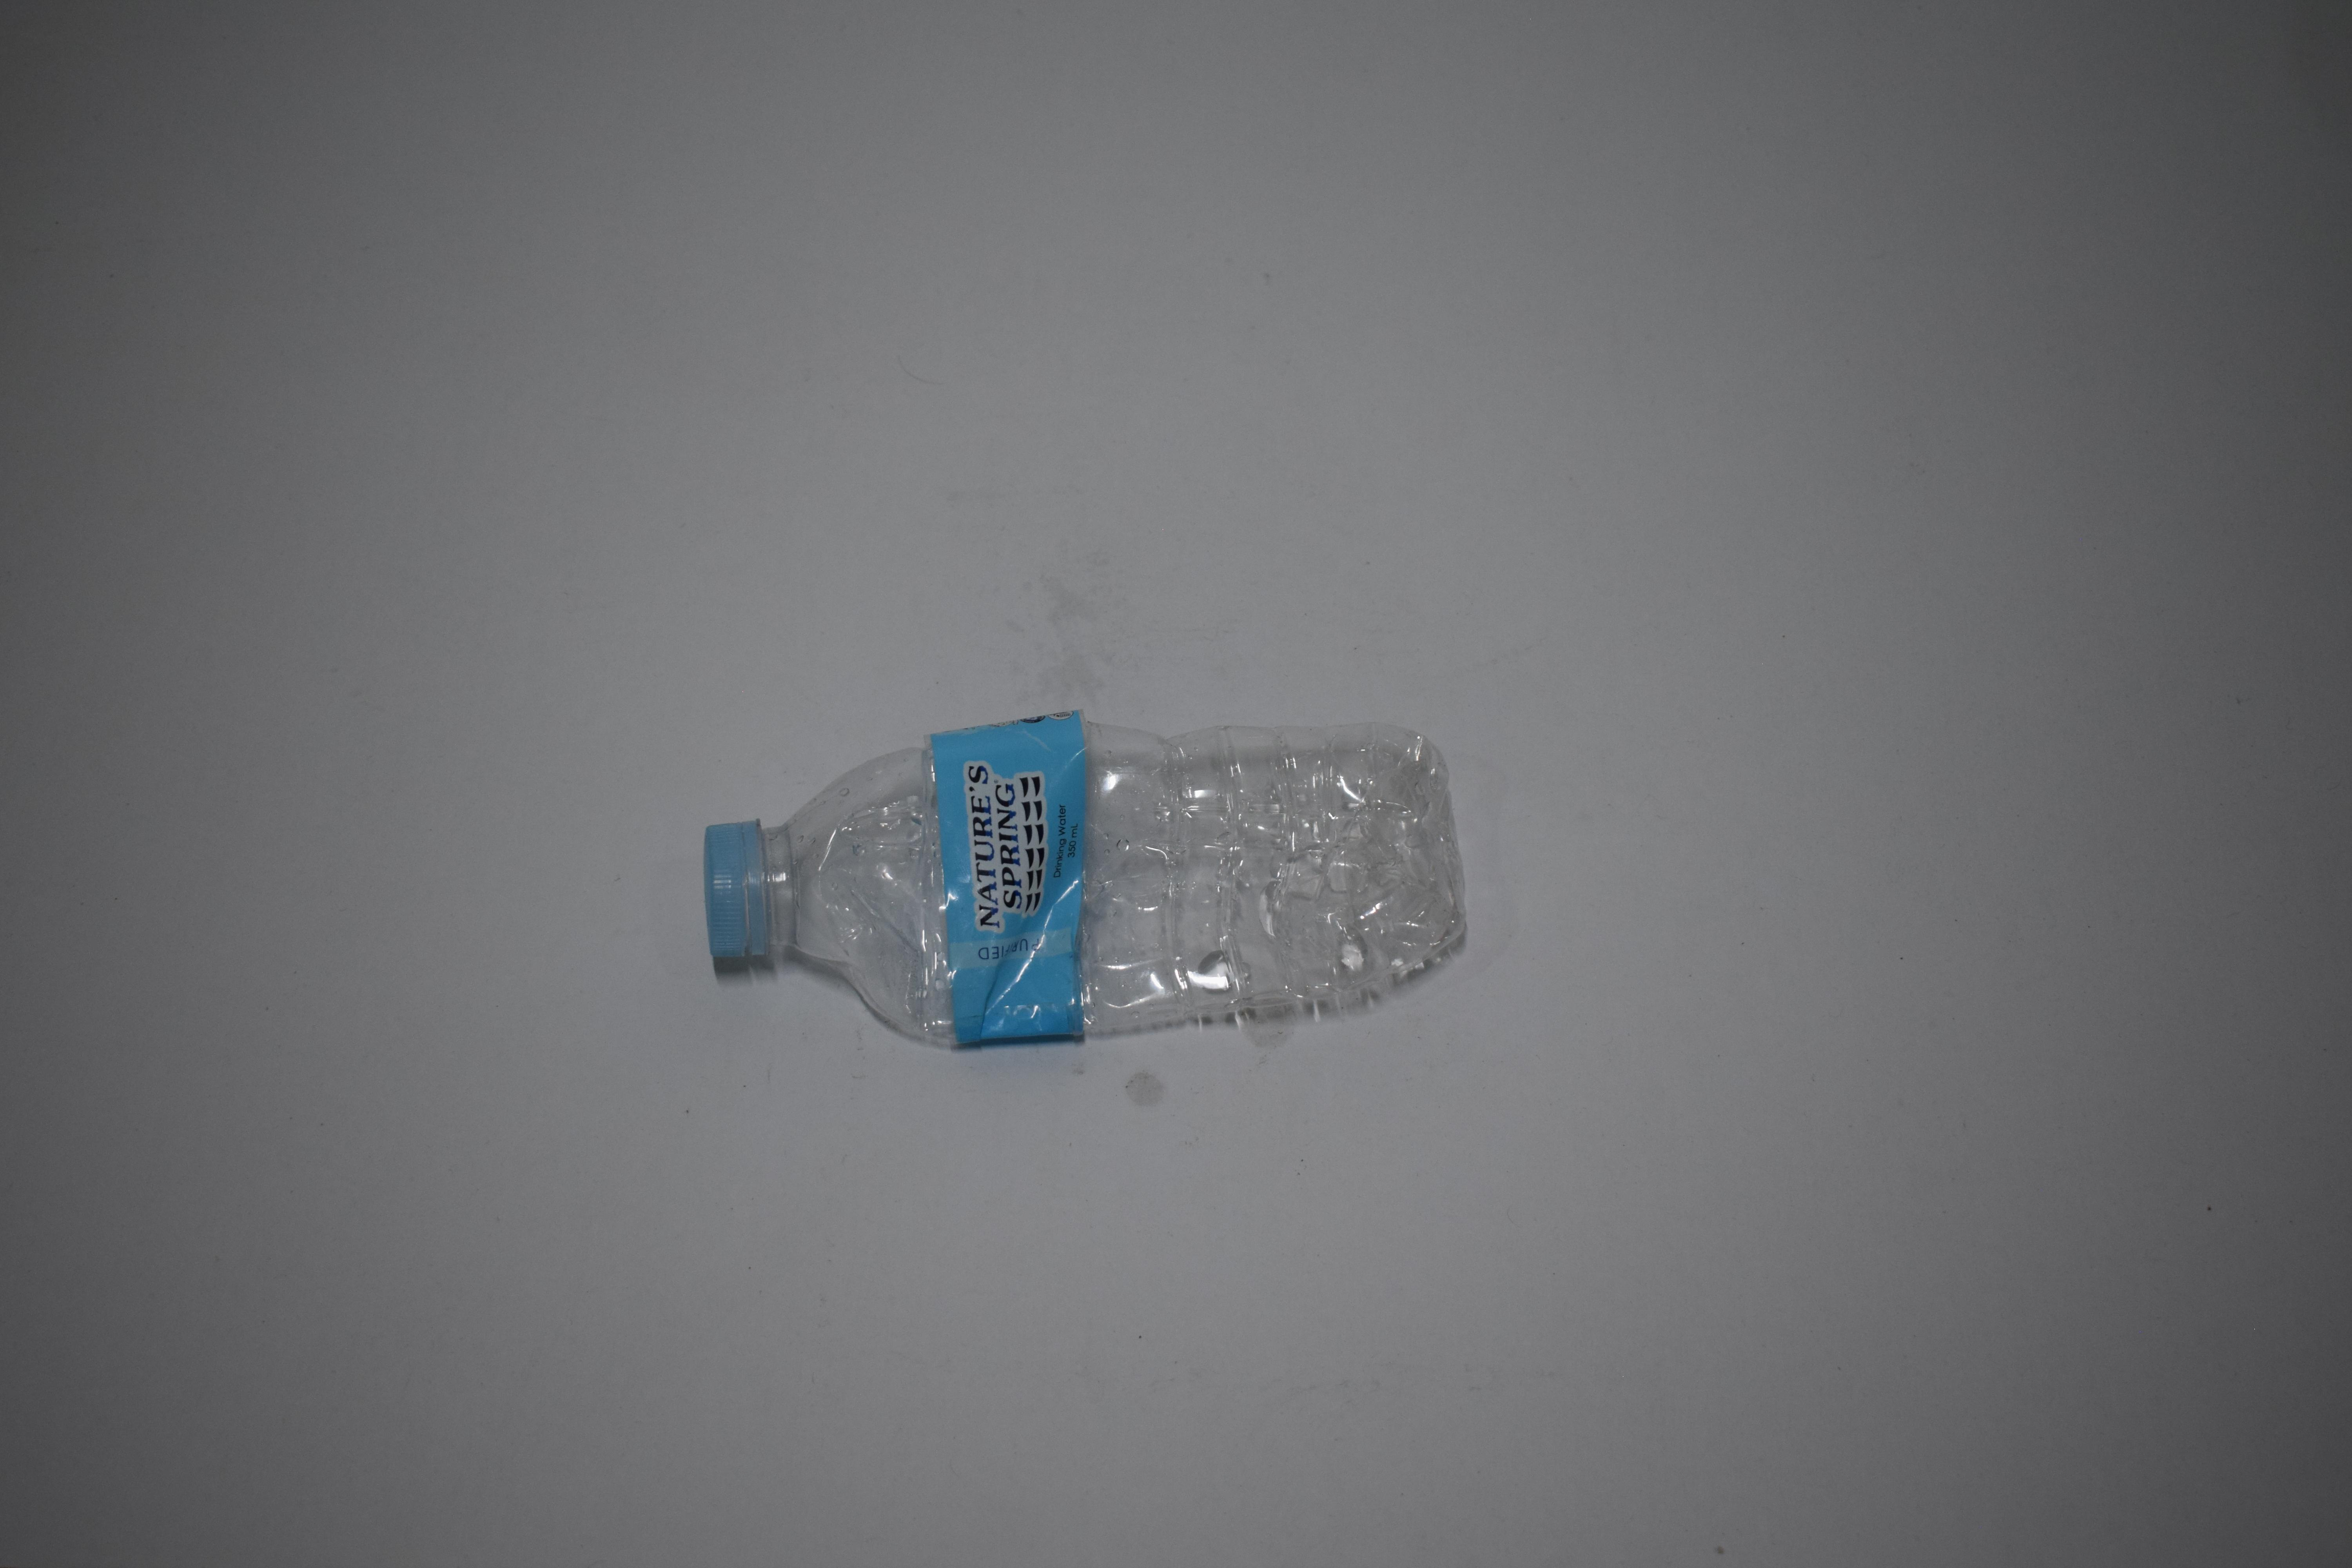bottle: (693, 0, 1473, 191)
